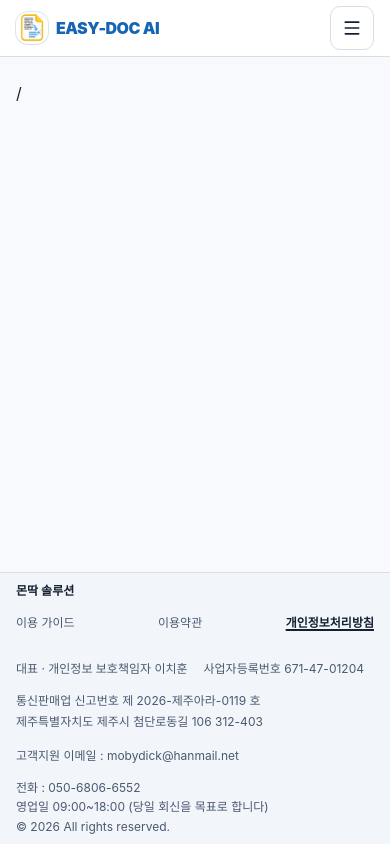
it: 모바일 메뉴 ARIA › 변환 기록 선택 후 메뉴를 닫는다 (현재 페이지 포함)
Click the button named "메뉴 열기": (352, 28) [330,6,374,50]
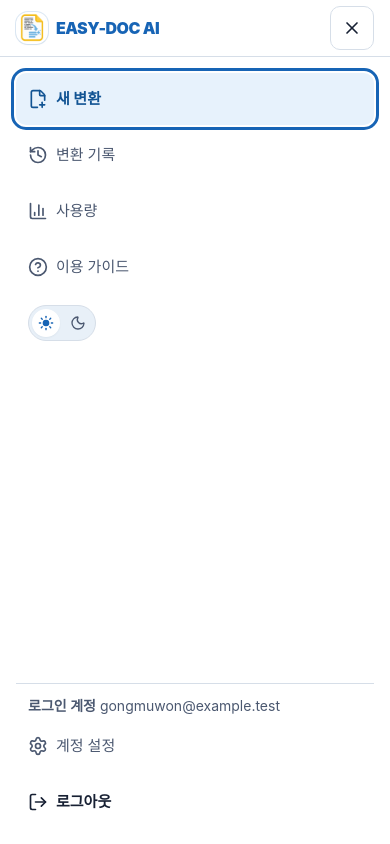
Click the link "변환 기록": (72, 155) [28,145,115,165]
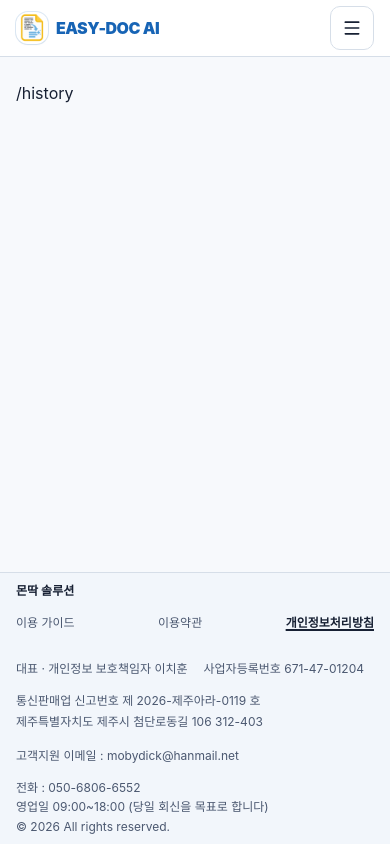
Check: the text with test id "location" reads "/history", box [16,83,74,103]
Check: the button named "메뉴 열기" is collapsed, box [330,6,374,50]
